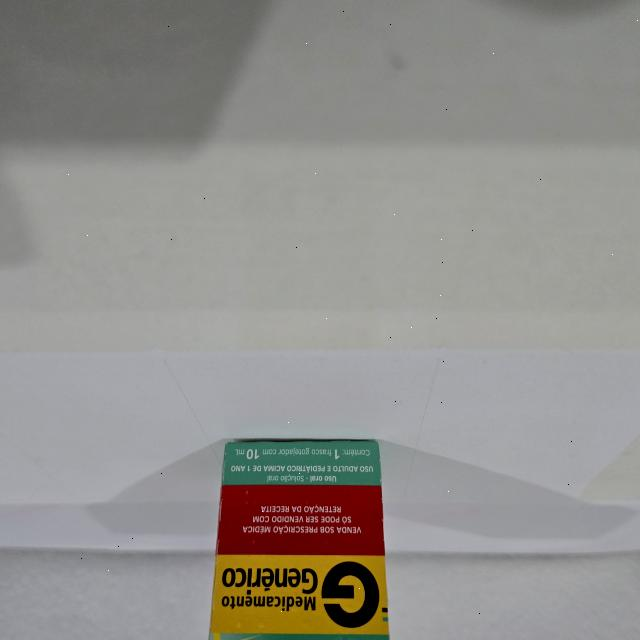tramadol: (204, 436, 394, 640)
